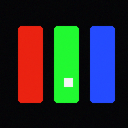1 square: (64, 78, 72, 86)
